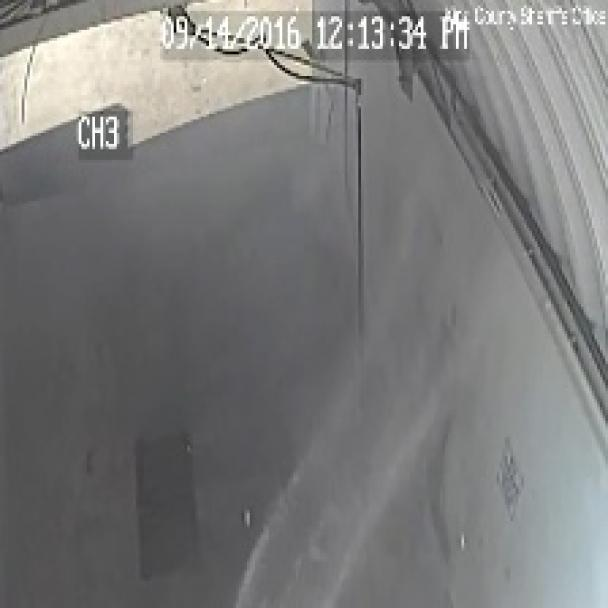smoke: (11, 60, 605, 605)
